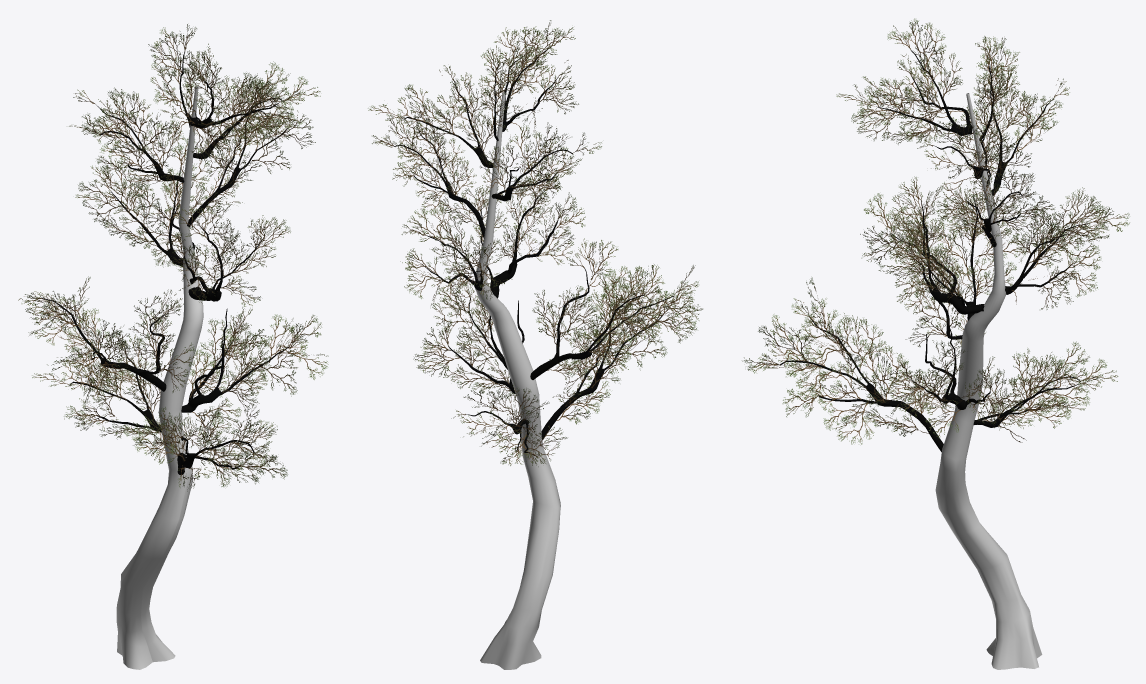
The model's file is SM_MountainTree_02.fbx.
3 renders of one model, left to right at view 1: azimuth 30°, elevation 25°; view 2: azimuth 150°, elevation 25°; view 3: azimuth 270°, elevation 25°, orthographic. The views are drawn at different scales.
Parts seen in each view (by area): view 1: SM_MountainTree_02_LOD0; view 2: SM_MountainTree_02_LOD0; view 3: SM_MountainTree_02_LOD0.
Boxes of the visible parts, bbox=[...] form: SM_MountainTree_02_LOD0: bbox=[18, 24, 328, 669]; SM_MountainTree_02_LOD0: bbox=[368, 20, 702, 669]; SM_MountainTree_02_LOD0: bbox=[742, 18, 1129, 669].
Size of the model in its own units: 842 by 927 by 1677.
